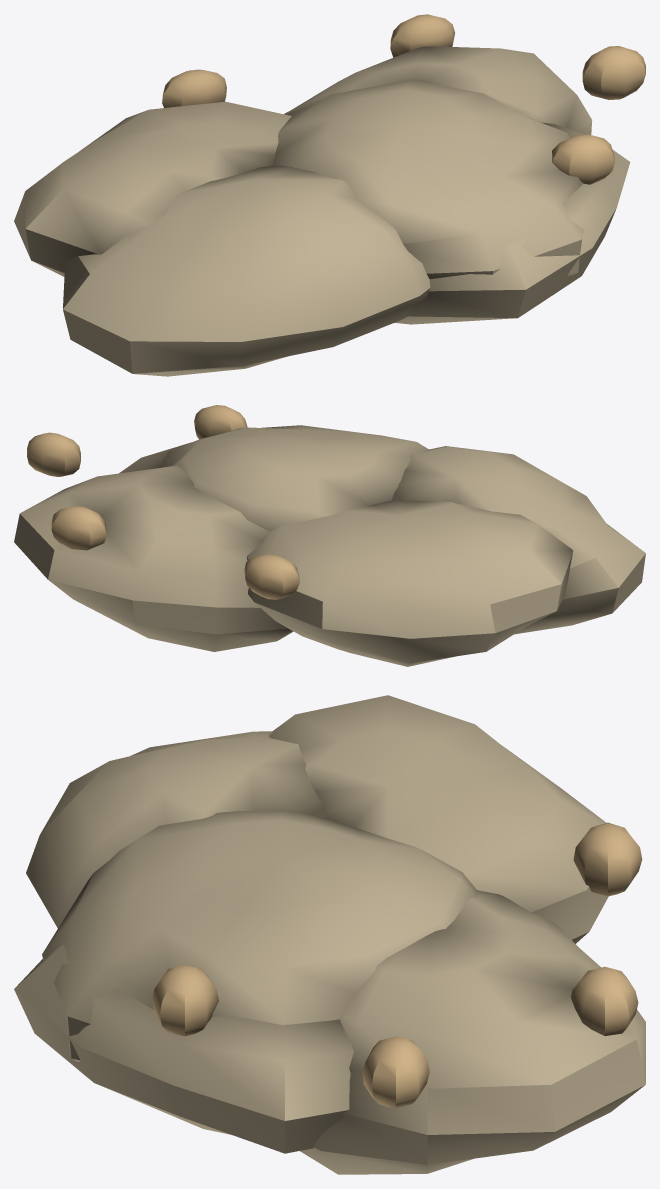
File: net.glb
The picture shows the model from 3 angles, top to bottom: view 1: azimuth 30°, elevation 25°; view 2: azimuth 150°, elevation 25°; view 3: azimuth 270°, elevation 25°; orthographic projection. The views are drawn at different scales.
Parts seen in each view (by area): view 1: boat_netc, boat_cork; view 2: boat_netc, boat_cork; view 3: boat_netc, boat_cork.
Boxes of the visible parts, <box> form: boat_netc: <box>14,46,630,376</box>; boat_cork: <box>162,14,645,184</box>; boat_netc: <box>14,425,645,666</box>; boat_cork: <box>27,405,299,599</box>; boat_netc: <box>14,695,645,1174</box>; boat_cork: <box>152,822,642,1108</box>.
Size of the model in its own units: 0.7043 by 0.1848 by 0.4676.
